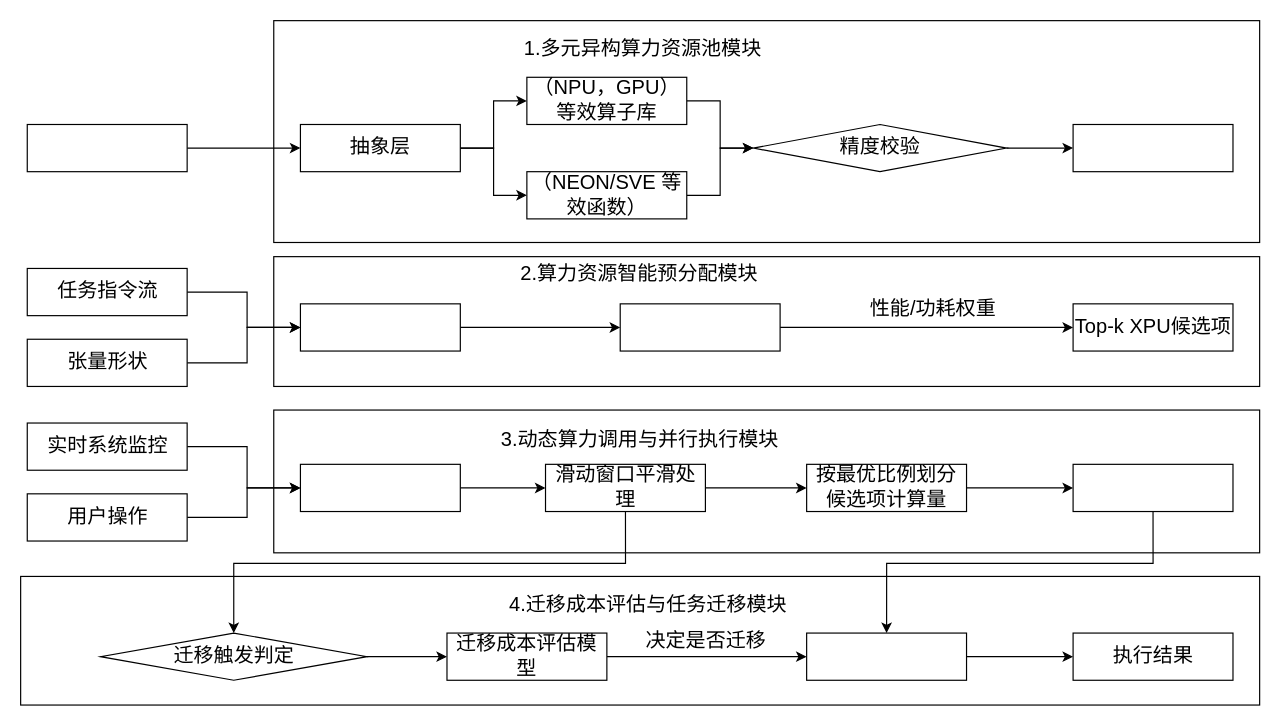
Some shapes in this 1280 by 726 pixel diagram are drawn without their labels. Each missing label, with the centre of its shape:
任务逻辑: pixel 106 147
入池: pixel 1152 147
多XPU执行: pixel 886 656
数据切分: pixel 1152 487
特征提取: pixel 379 327
负载特征提取: pixel 379 487
轻量化预测模型: pixel 699 327
